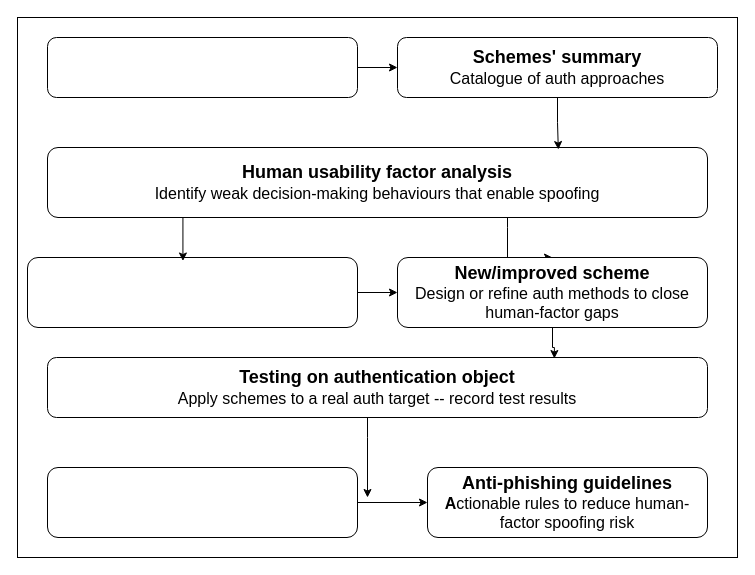
Some shapes in this 755 by 575 pixel diagram are drawn without their labels. Each missing label, with the centre of its shape:
"Literature review Compile existing auth schemes" goes at (202,67).
"Scheme comparison Evaluate multiple auth methods against usable security gaps" goes at (192,292).
"Suggestions analysis Extract improvements from test results on auth object" goes at (202,502).
